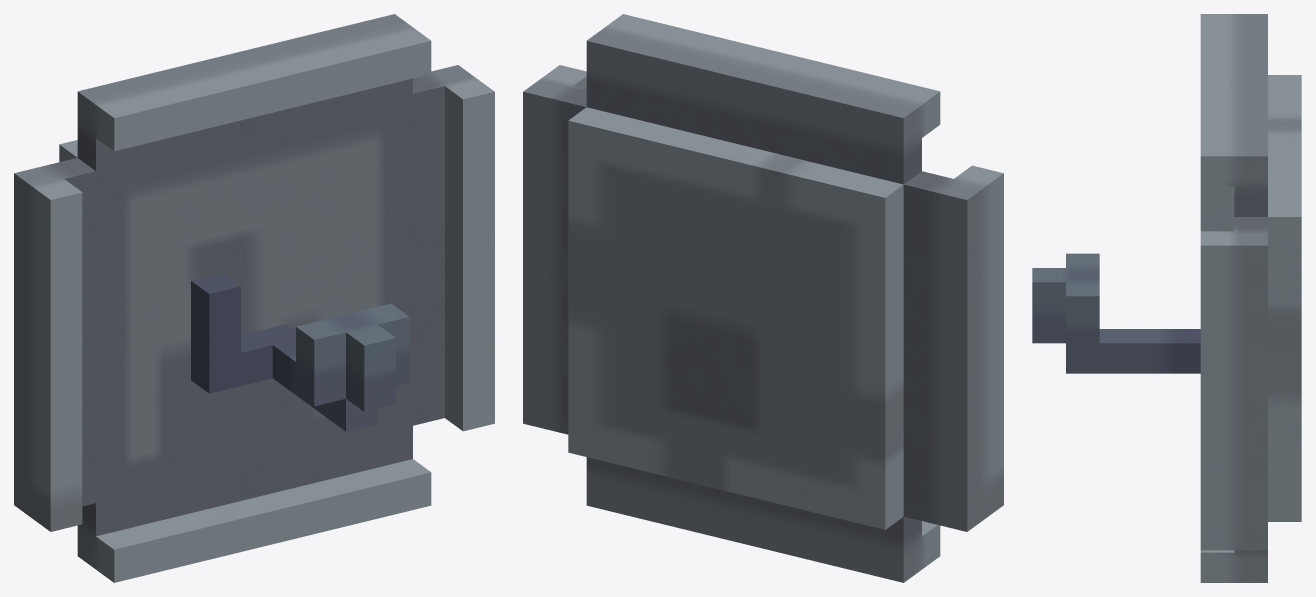
The model's file is SatelliteDish_1.fbx.
3 views of the same model, side by side, from view 1: azimuth 30°, elevation 25°; view 2: azimuth 150°, elevation 25°; view 3: azimuth 270°, elevation 25° (orthographic). The views are drawn at different scales.
Parts seen in each view (by area): view 1: SatelliteDish_1; view 2: SatelliteDish_1; view 3: SatelliteDish_1.
Part boxes in pixels (<box>): SatelliteDish_1: <box>14,14,494,582</box>; SatelliteDish_1: <box>523,14,1003,582</box>; SatelliteDish_1: <box>1032,14,1301,582</box>.
Bounding box in the file's own units: 70 × 70 × 40.
